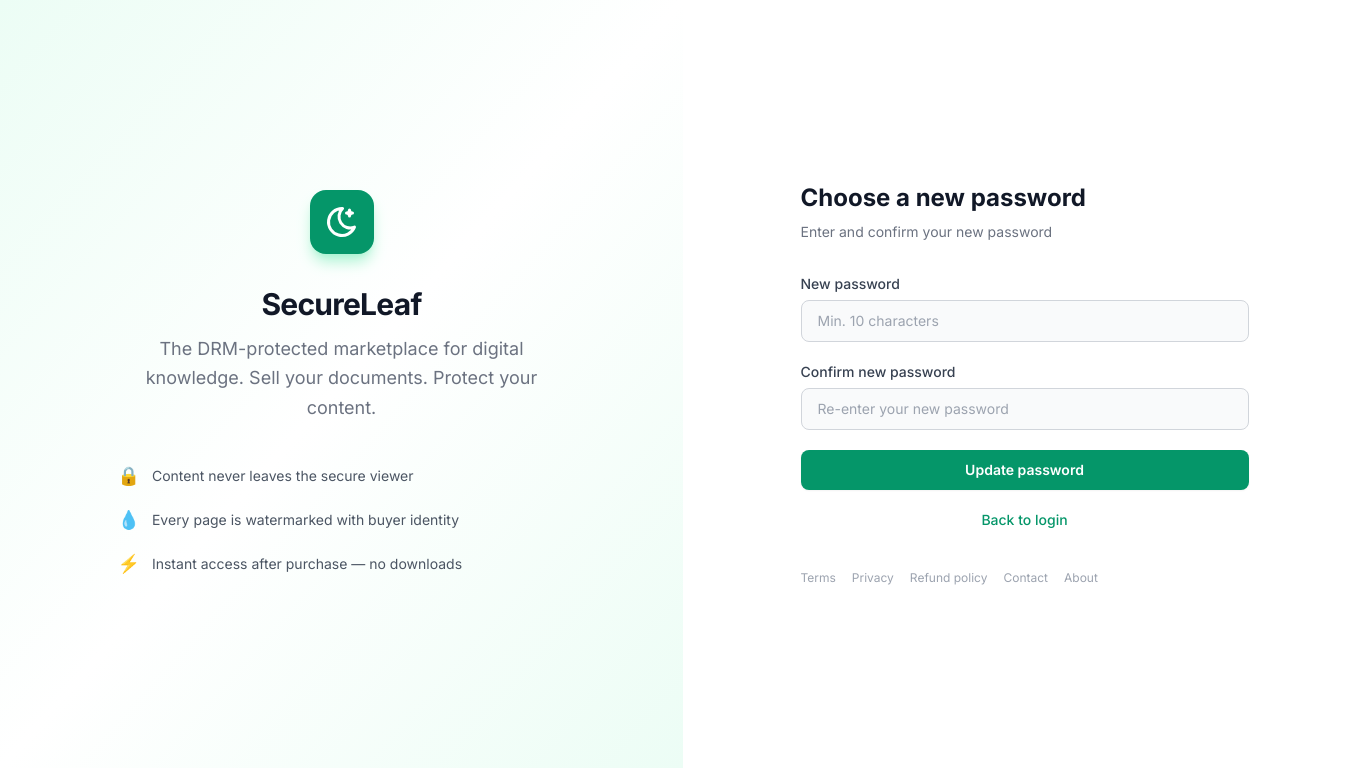
Scenario: ResetPasswordPage › shows a generic error when the token is invalid or expired
Step 1. Type "brand-new-password" into the password field labelled "New password" → (1024, 321), box 800,300 -> 1248,342
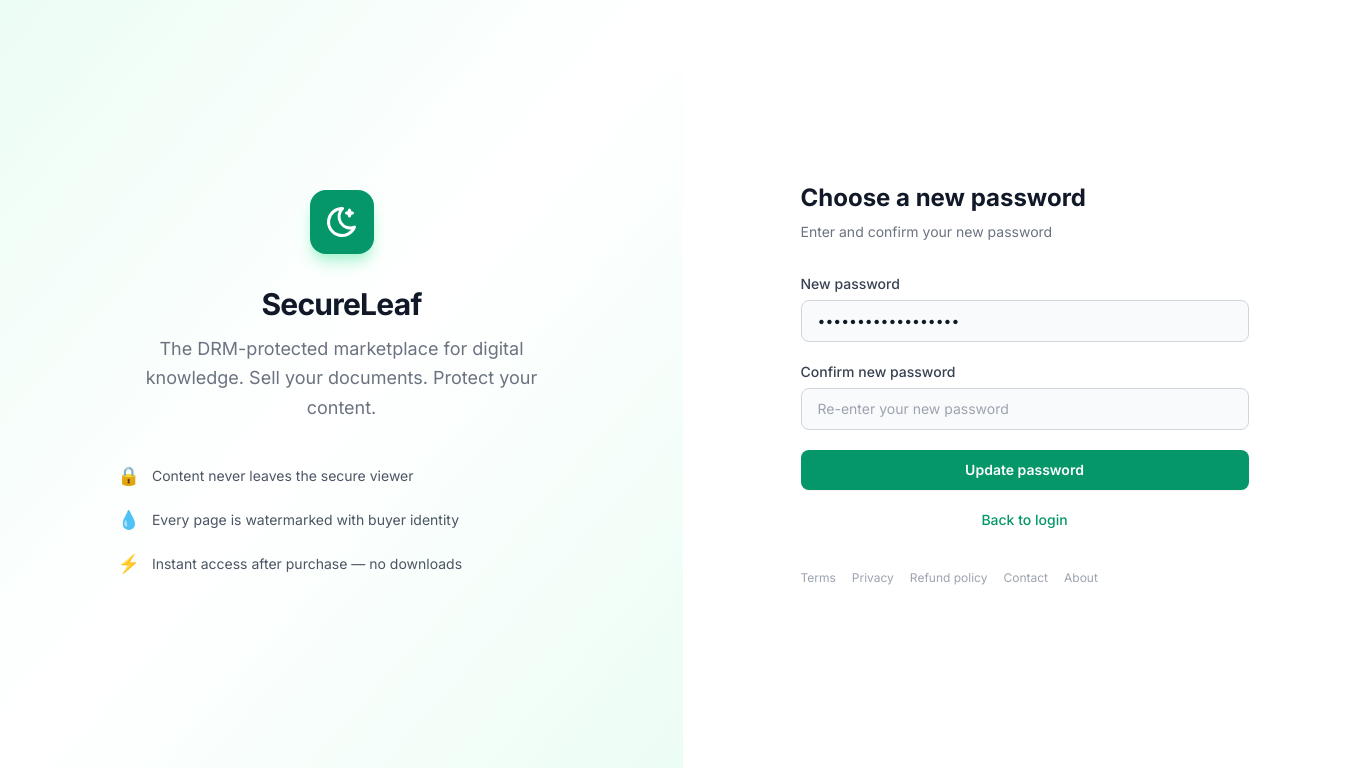
Step 2. Type "brand-new-password" into the password field labelled "Confirm new password" → (1024, 409), box 800,388 -> 1248,430
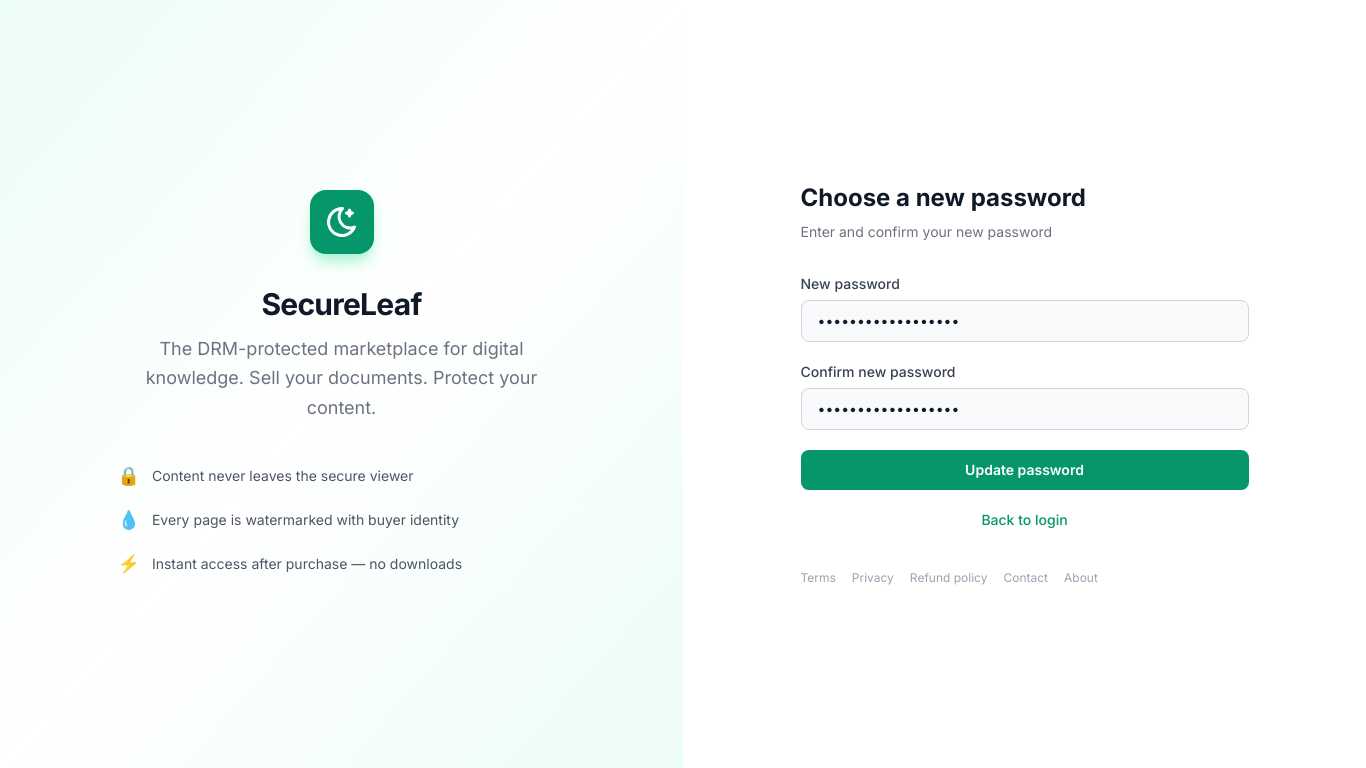
Step 3. Click the button "Update password" → (1024, 470), box 800,450 -> 1248,490
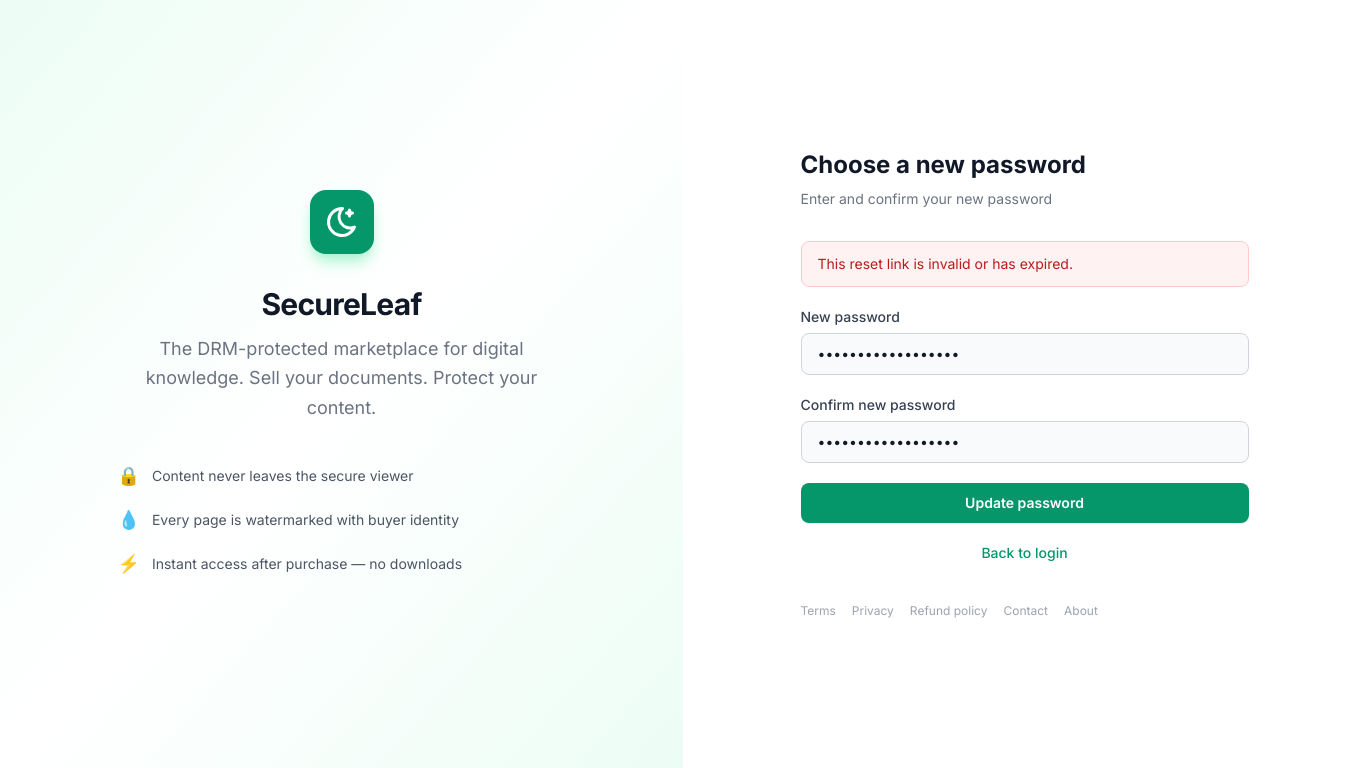
Now the text "This reset link is invalid or has expired." is shown, box 800,241 -> 1248,287
